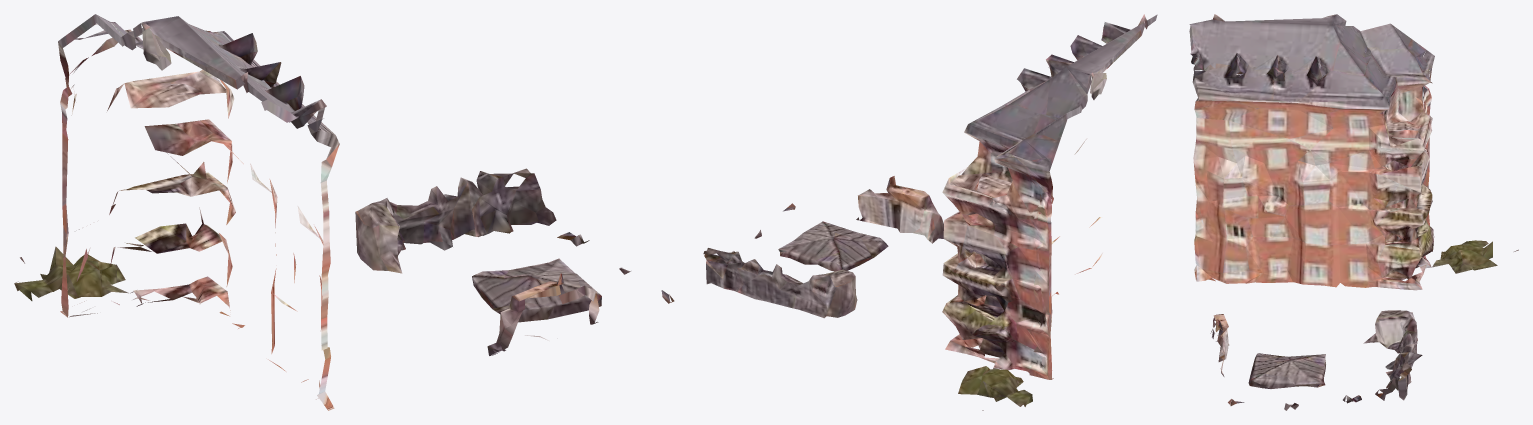
3 views of the same model, side by side, from view 1: azimuth 30°, elevation 25°; view 2: azimuth 150°, elevation 25°; view 3: azimuth 270°, elevation 25° (orthographic). The views are drawn at different scales.
Visible parts, largest first — view 1: Mesh_0; view 2: Mesh_0; view 3: Mesh_0.
Part boxes in pixels (box(x1,y1,x2,y2)): Mesh_0: box(14, 14, 674, 410); Mesh_0: box(703, 14, 1157, 410); Mesh_0: box(1189, 14, 1518, 410).
Size of the model in its own units: 31.37 by 22.08 by 26.65.
Materials: 1 (1 with a texture image).
